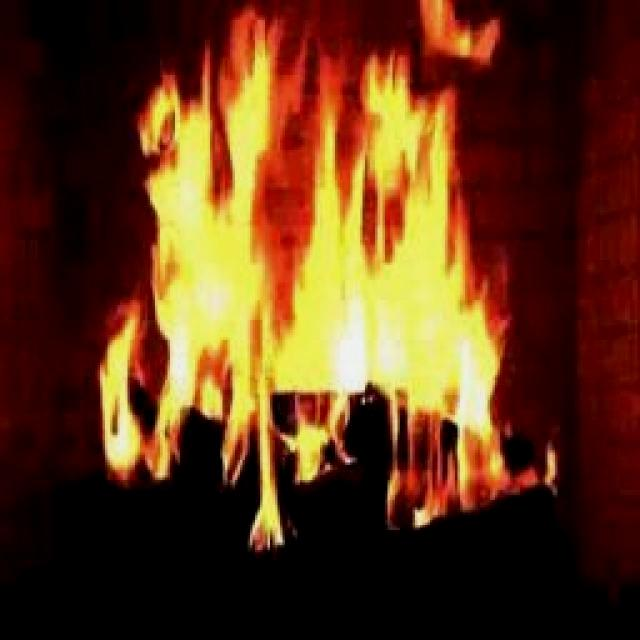fire: (80, 2, 552, 551)
